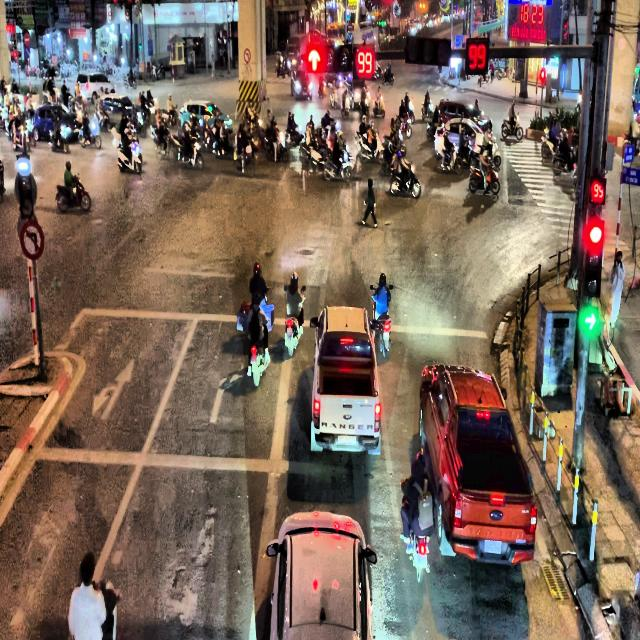lisence_plate: (482, 537, 502, 556), (337, 433, 358, 447)
